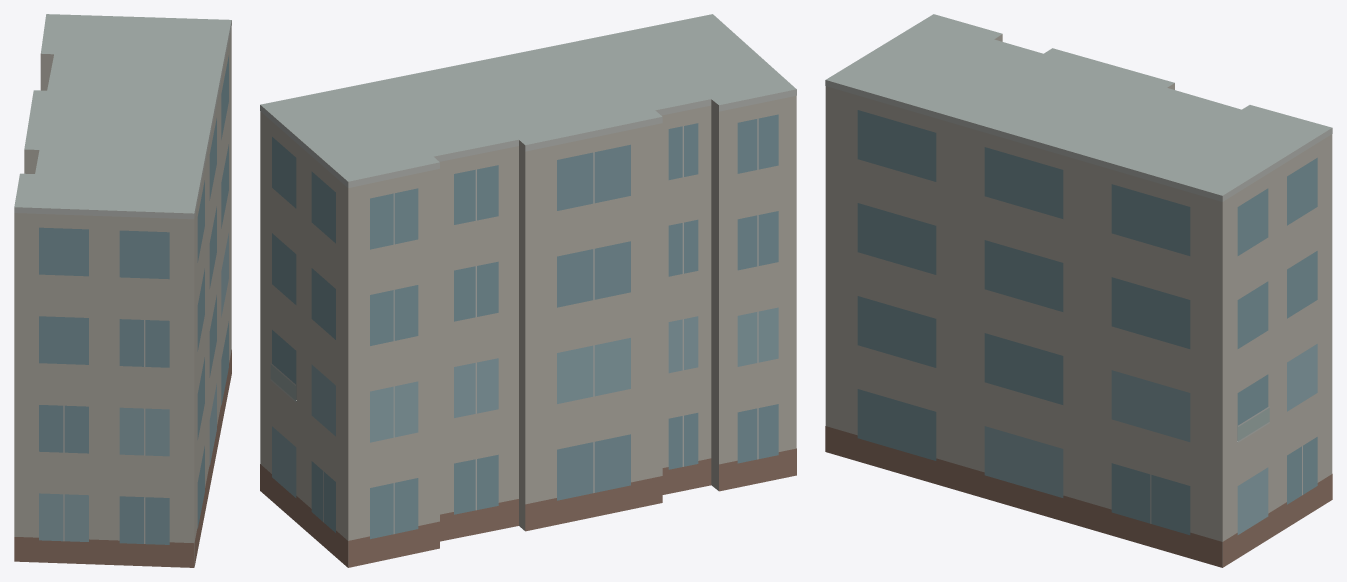
Rendered from survey-upis-32807375.glb.
3 renders of one model, left to right at view 1: azimuth 30°, elevation 25°; view 2: azimuth 150°, elevation 25°; view 3: azimuth 270°, elevation 25°, orthographic. The views are drawn at different scales.
Parts seen in each view (by area): view 1: survey-upis-32807375.tmp; view 2: survey-upis-32807375.tmp; view 3: survey-upis-32807375.tmp.
Part boxes in pixels (left/top/right/bottom): survey-upis-32807375.tmp: left=14, top=14, right=231, bottom=567; survey-upis-32807375.tmp: left=260, top=14, right=796, bottom=567; survey-upis-32807375.tmp: left=825, top=14, right=1332, bottom=567.
Size of the model in its own units: 15.42 by 14.7 by 18.16.
